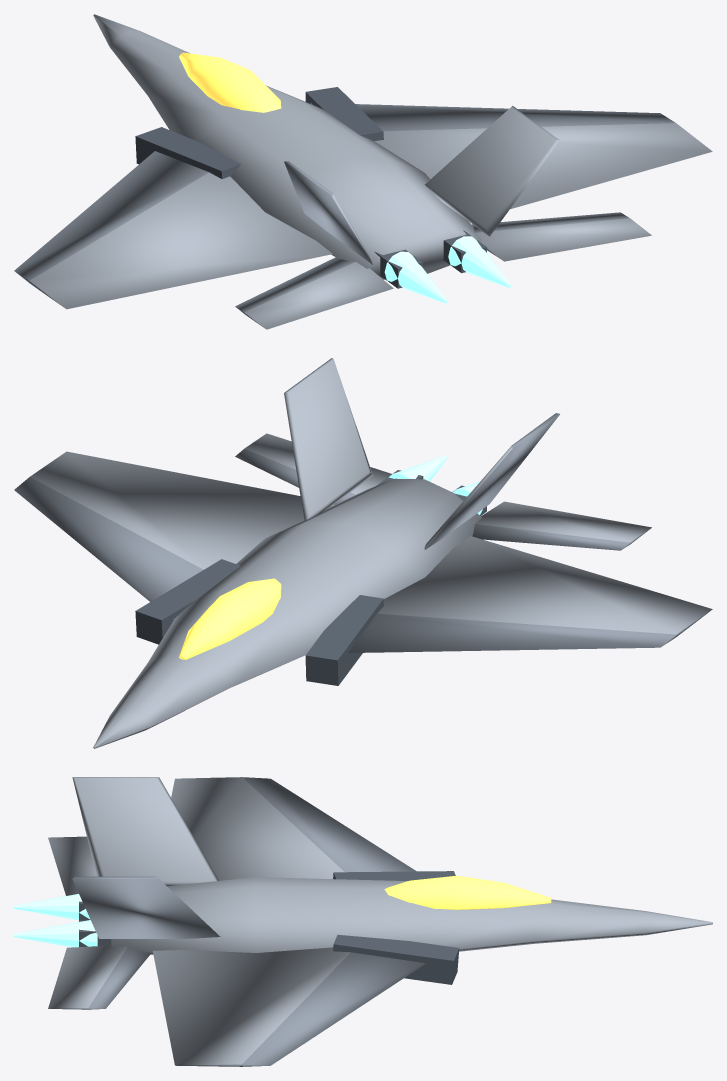
The model's file is F22_Raptor.glb.
The picture shows the model from 3 angles, top to bottom: view 1: azimuth 30°, elevation 25°; view 2: azimuth 150°, elevation 25°; view 3: azimuth 270°, elevation 25°; orthographic projection. The views are drawn at different scales.
Parts seen in each view (by area): view 1: Fuselaje_F22, Alas_F22_-1.0, Alas_F22_1.0, Deriva_F22_1.0, Stabilators_F22_-1.0, Stabilators_F22_1.0, Cabina_F22, Deriva_F22_-1.0, Cube, Cube.001, propulsor, propulsor.001; view 2: Fuselaje_F22, Alas_F22_-1.0, Alas_F22_1.0, Deriva_F22_1.0, Stabilators_F22_-1.0, Cabina_F22, Cube, Cube.001, Deriva_F22_-1.0, Stabilators_F22_1.0, propulsor.001; view 3: Fuselaje_F22, Alas_F22_1.0, Alas_F22_-1.0, Deriva_F22_-1.0, Deriva_F22_1.0, Stabilators_F22_1.0, Cabina_F22, Cube.001, Stabilators_F22_-1.0, propulsor.001, propulsor, Cube.
Boxes of the visible parts, x1,y1,x2,y2 form: Fuselaje_F22: (93,14,481,279); Alas_F22_-1.0: (14,151,332,309); Alas_F22_1.0: (310,102,712,209); Deriva_F22_1.0: (424,106,560,236); Stabilators_F22_-1.0: (235,257,393,329); Stabilators_F22_1.0: (471,212,651,261); Cabina_F22: (179,52,281,112); Deriva_F22_-1.0: (284,161,372,264); Cube: (135,127,240,179); Cube.001: (305,87,383,140); propulsor: (384,251,447,303); propulsor.001: (448,236,511,287); Fuselaje_F22: (93,478,481,748); Alas_F22_-1.0: (348,536,712,652); Alas_F22_1.0: (14,451,304,619); Deriva_F22_1.0: (284,358,372,520); Stabilators_F22_-1.0: (472,501,651,550); Cabina_F22: (179,578,281,659); Cube: (305,595,383,685); Cube.001: (135,559,240,644); Deriva_F22_-1.0: (424,413,559,549); Stabilators_F22_1.0: (235,433,391,504); propulsor.001: (388,455,447,481); Fuselaje_F22: (111,877,712,954); Alas_F22_1.0: (152,947,425,1066); Alas_F22_-1.0: (171,777,416,880); Deriva_F22_-1.0: (72,777,218,886); Deriva_F22_1.0: (72,876,220,938); Stabilators_F22_1.0: (48,945,151,1009); Cabina_F22: (384,875,551,909); Cube.001: (333,934,459,984); Stabilators_F22_-1.0: (48,836,96,895); propulsor.001: (14,920,97,947); propulsor: (14,894,90,920); Cube: (333,871,455,880).
Size of the model in its own units: 6.1 by 1.12 by 6.27.
